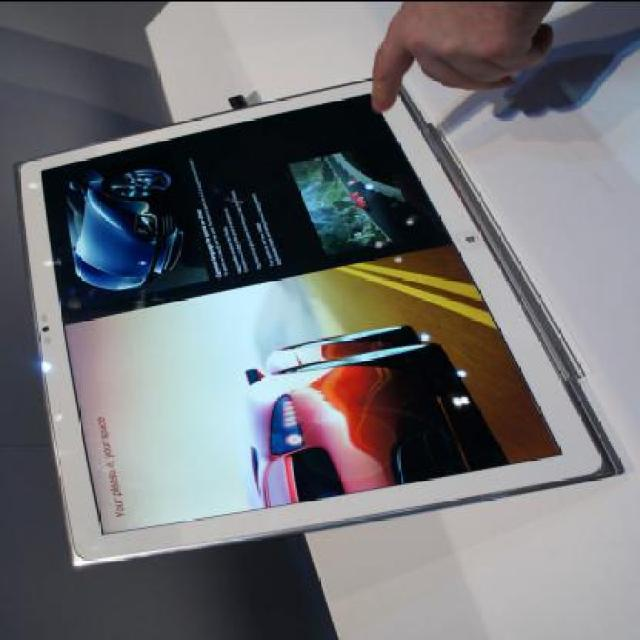tablet: (10, 70, 640, 571)
